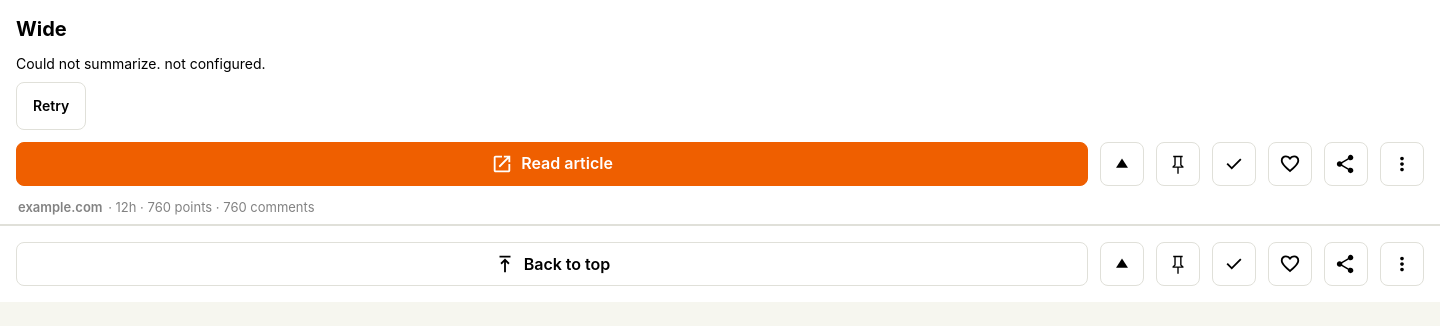
<Thread> › wide-screen action bar (≥960px) › surfaces Favorite and Share as inline icon buttons and drops them from the menu
The image size is (1440, 326).
Expected: the link "Wide" is shown, [16,17,67,41]
Expected: the button with test id "thread-favorite" is shown, [1268,142,1312,186]
Click the button with test id "thread-more". click: (1402, 164)
box: [1380,142,1424,186]
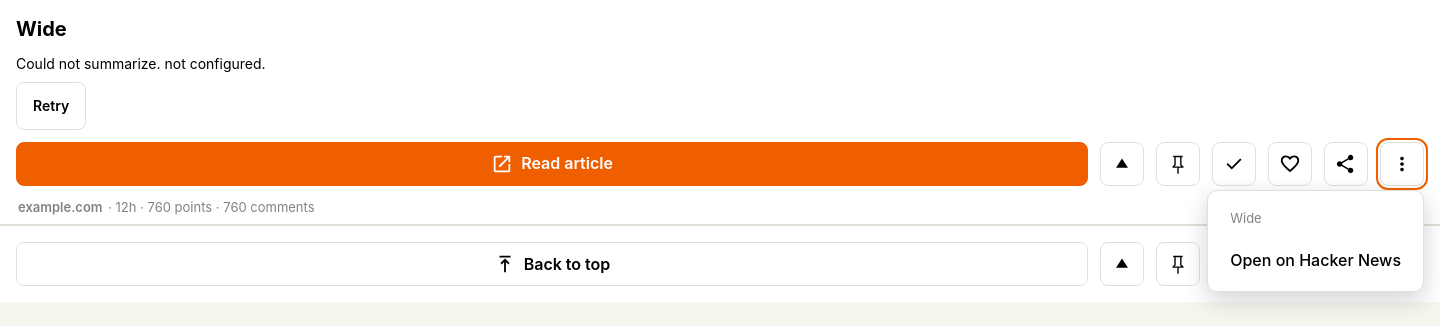
Expected: the menu item with test id "story-row-menu-open-on-hn" is shown, [1214,235,1417,285]
